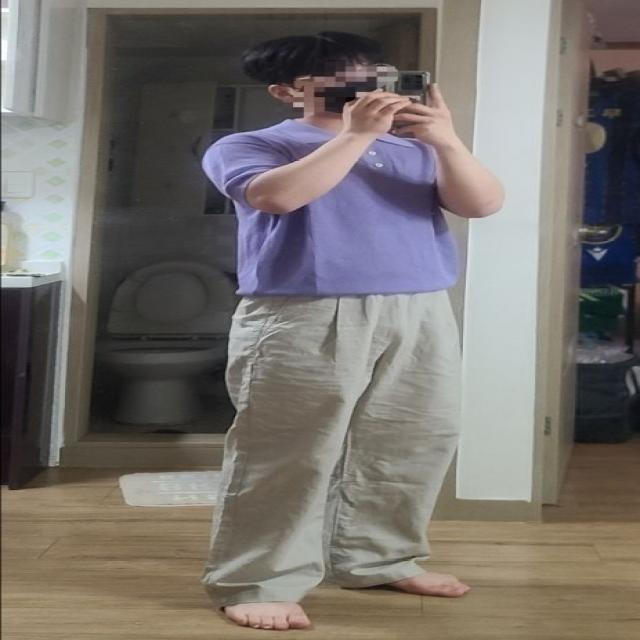cottonpants: (203, 290, 466, 606)
shortsleeve: (199, 120, 470, 297)
